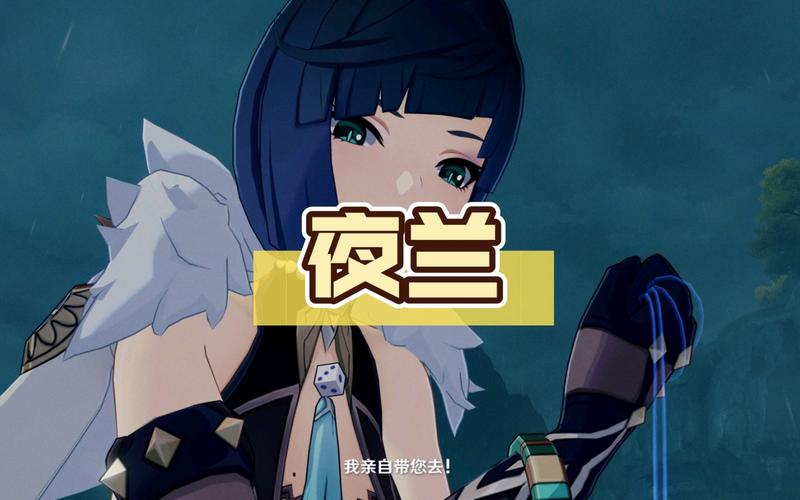夜兰: (109, 4, 697, 500)
